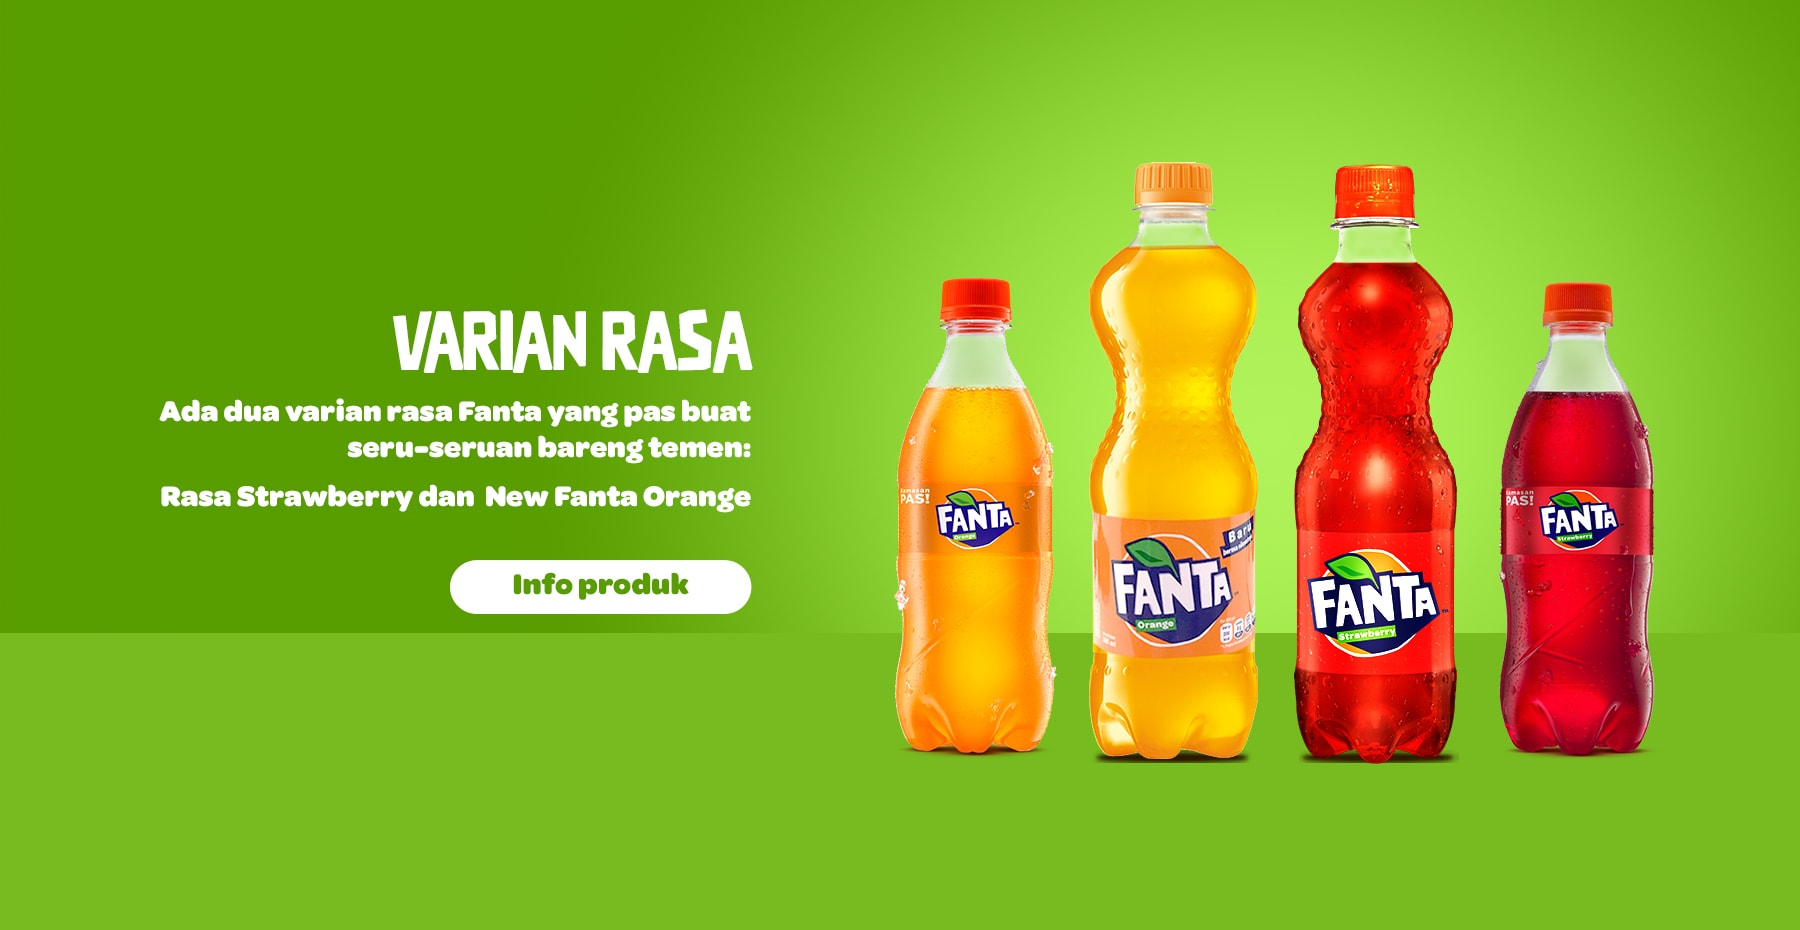botol: (1091, 159, 1258, 763), (1098, 159, 1258, 763), (1294, 159, 1454, 759), (1306, 159, 1454, 759), (896, 270, 1052, 750), (896, 280, 1052, 750), (1501, 282, 1653, 750), (908, 280, 1052, 750)
